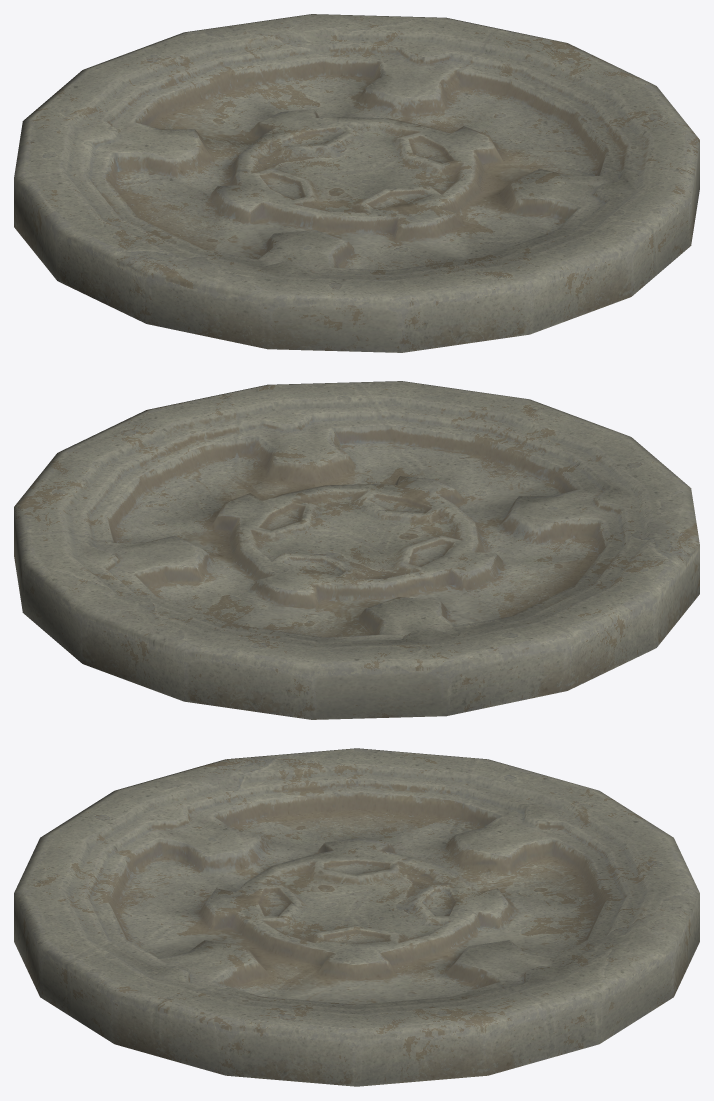
Rendered from AD_DecoTile_C_01.fbx.
3 renders of one model, top to bottom at view 1: azimuth 30°, elevation 25°; view 2: azimuth 150°, elevation 25°; view 3: azimuth 270°, elevation 25°, orthographic.
Parts seen in each view (by area): view 1: AD_DecoTile_C_01; view 2: AD_DecoTile_C_01; view 3: AD_DecoTile_C_01.
Part boxes in pixels (<box>): AD_DecoTile_C_01: <box>14,14,699,352</box>; AD_DecoTile_C_01: <box>14,381,699,719</box>; AD_DecoTile_C_01: <box>14,748,699,1086</box>.
Size of the model in its own units: 1141 by 95.26 by 1141.
Materials: 1 (1 with a texture image).
